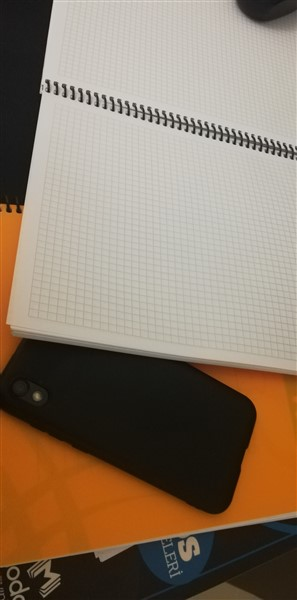telefon: (1, 333, 264, 529)
